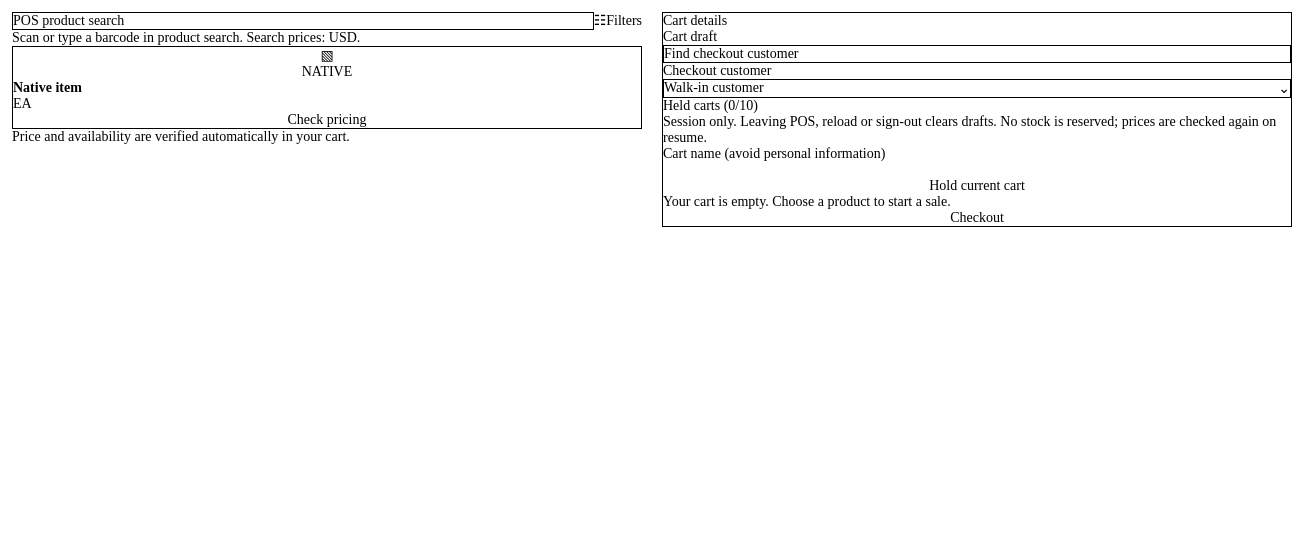
Test: uses native labelled controls for search, cart, authoritative quote and confirmed cash checkout
What coordinates should you click on to do the following:
click the button with aria-label "Add NATIVE · Native item"
I would click on:
 (327, 120)
Its box is [13,112,641,128].
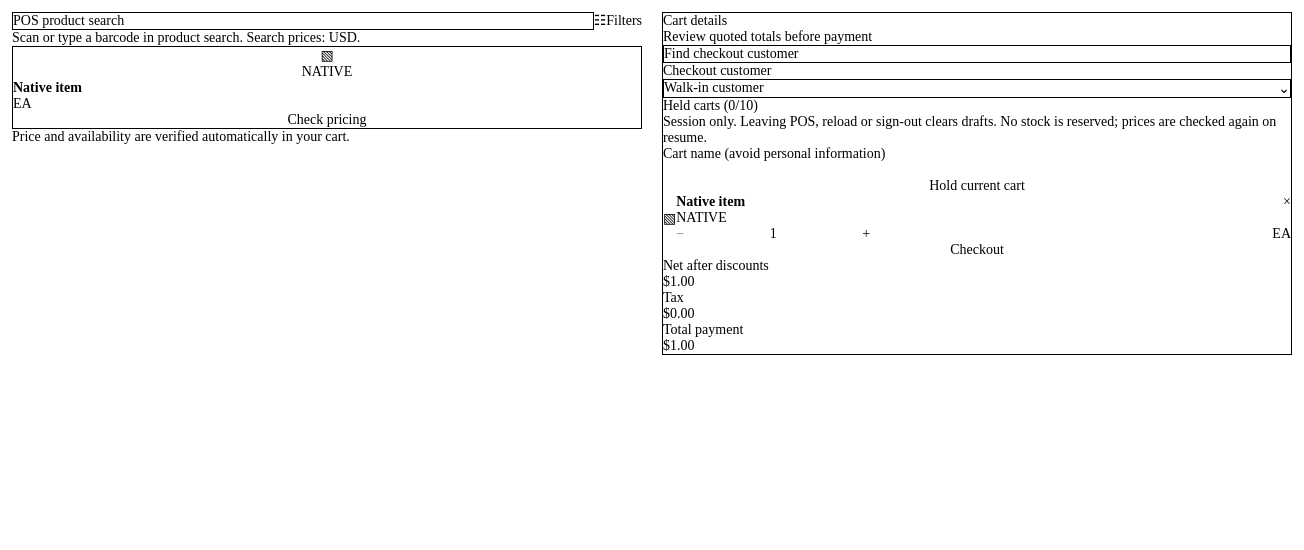
What coordinates should you click on to do the following:
click the button "Checkout"
I would click on:
 (977, 250)
Its box is [663,242,1291,258].
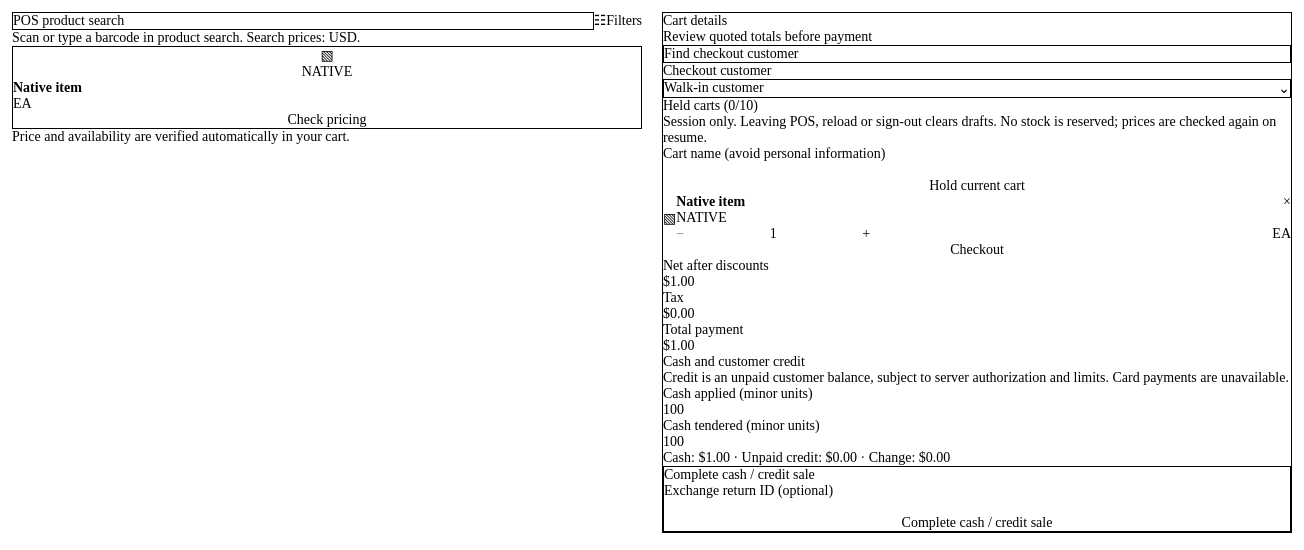
What coordinates should you click on to do the following:
click the button "Complete cash / credit sale"
I would click on:
 (977, 523)
Its box is [664,515,1290,531].
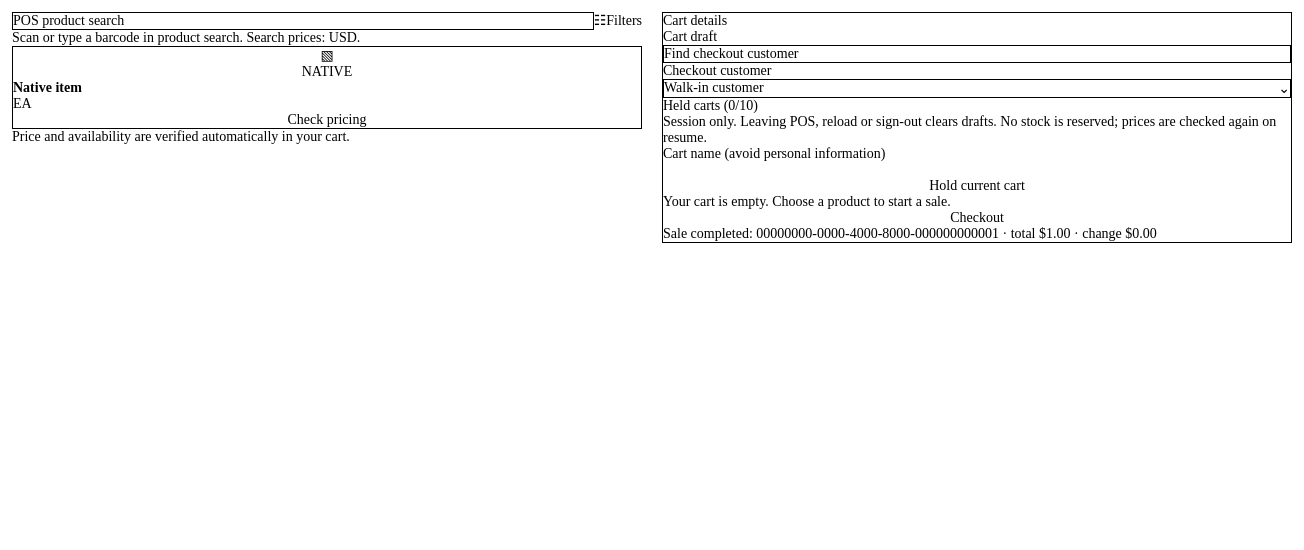
Expected: the text "Sale completed:" is shown, [663,226,756,241]
